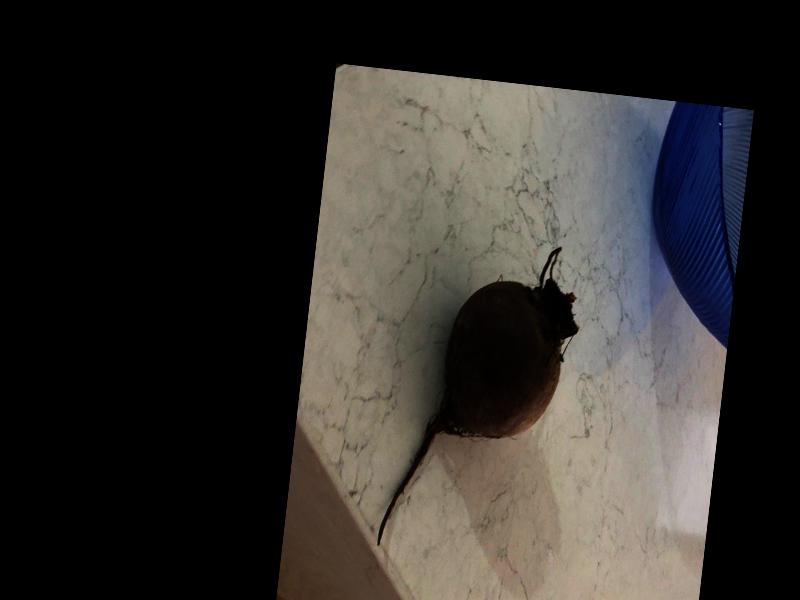Beet: (376, 232, 585, 563)
